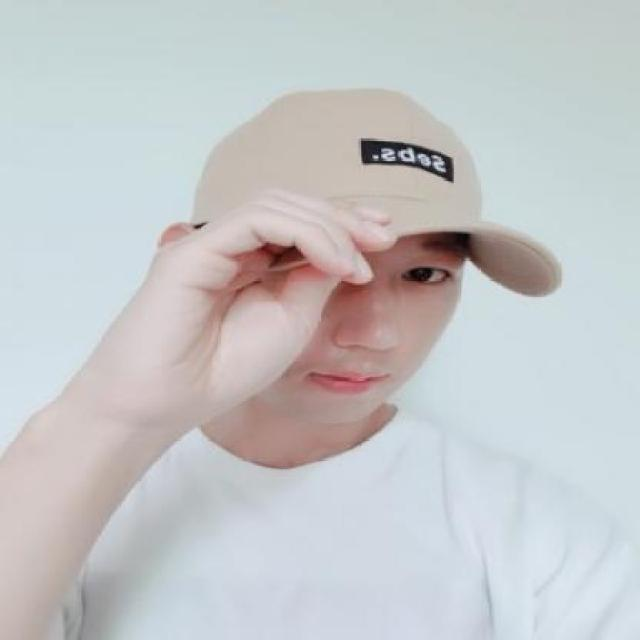hat: (187, 89, 559, 297)
